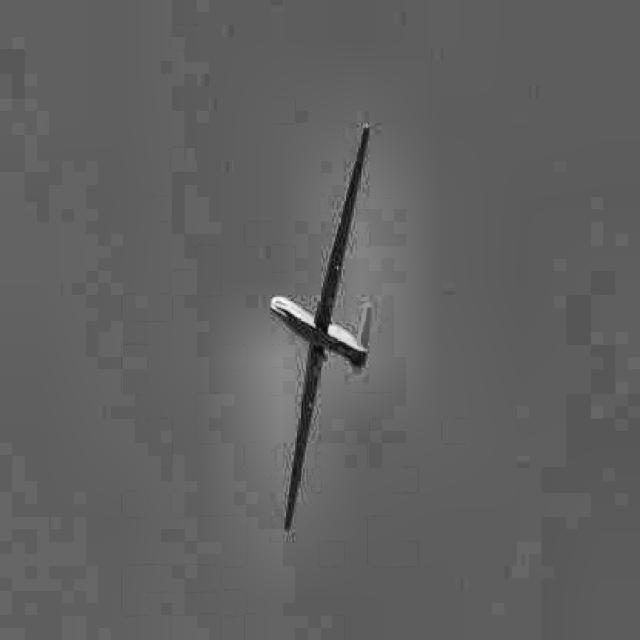RQ4: (270, 121, 372, 533)
